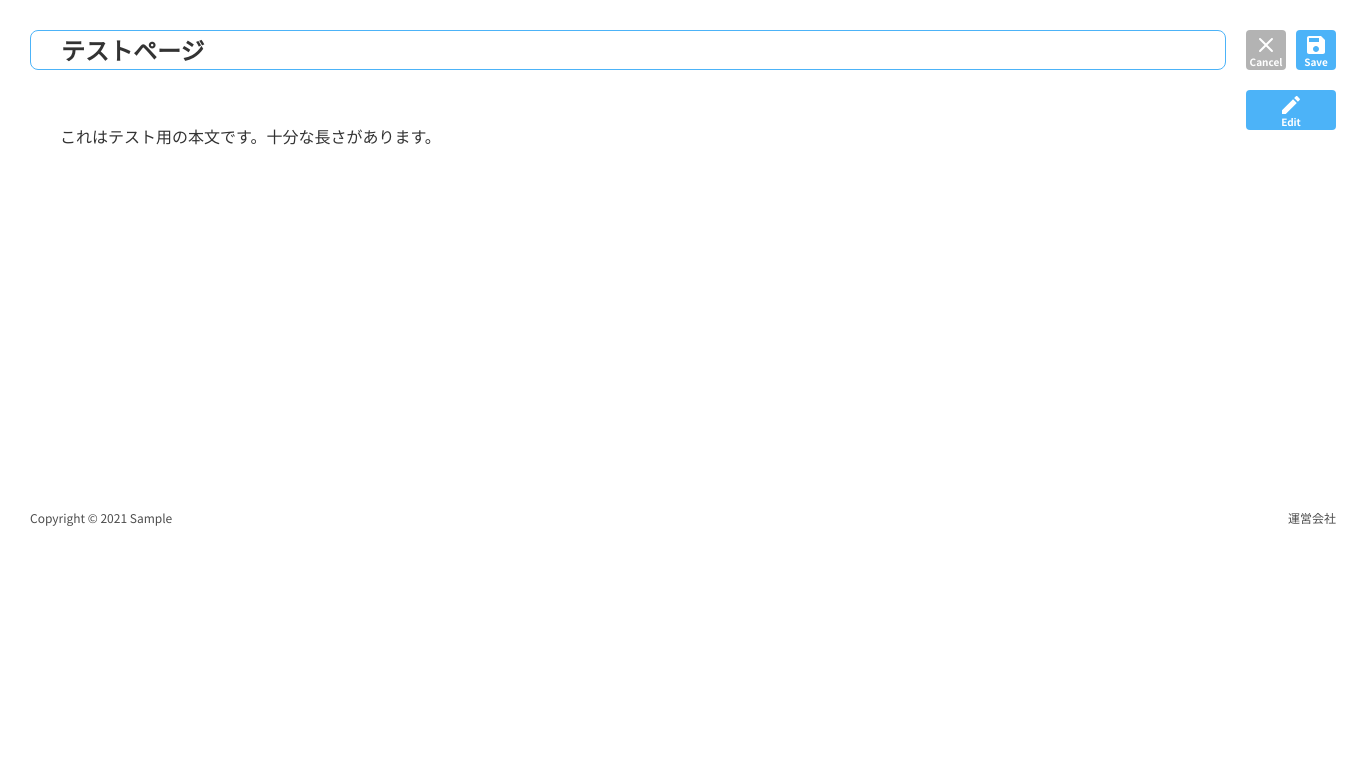
it: ContentEditor › タイトル編集で空文字のままSaveするとエラーを表示する
Clear the field showing "テストページ" at coordinates (628, 50), box [61,34,1195,66]
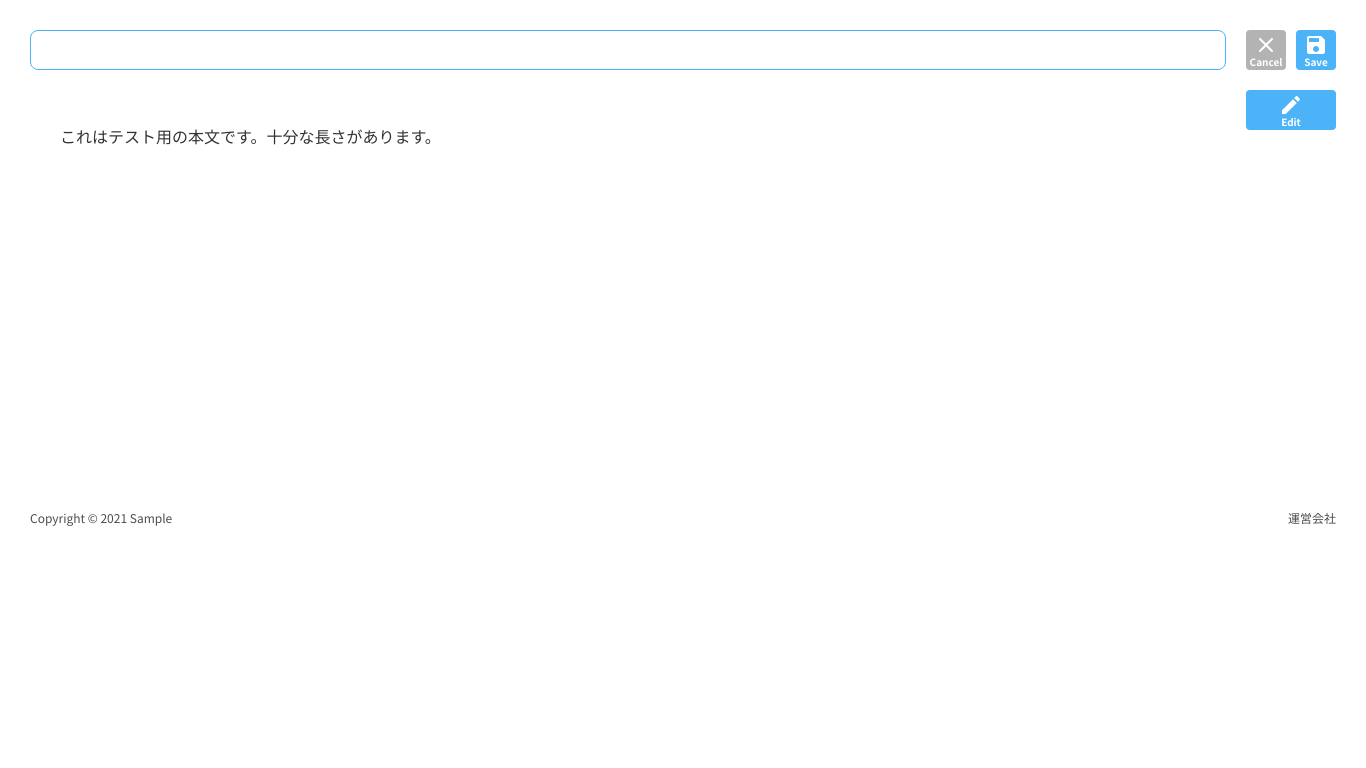
Click the button "Save".
click(1316, 50)  # box [1296,30,1336,70]
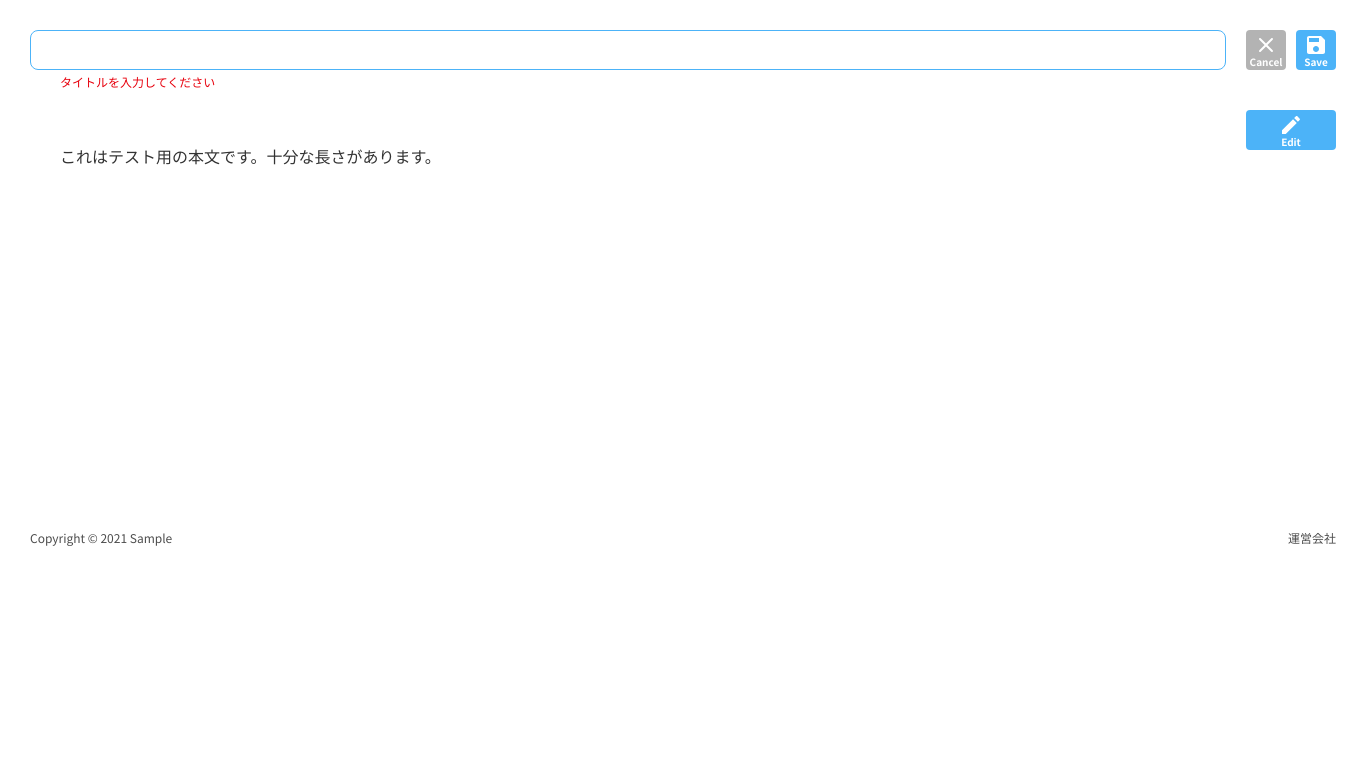
Result: the text "タイトルを入力してください" is shown at [60,73,215,90]
